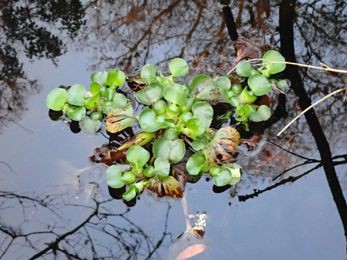water_hyacinth: (44, 50, 295, 197)
